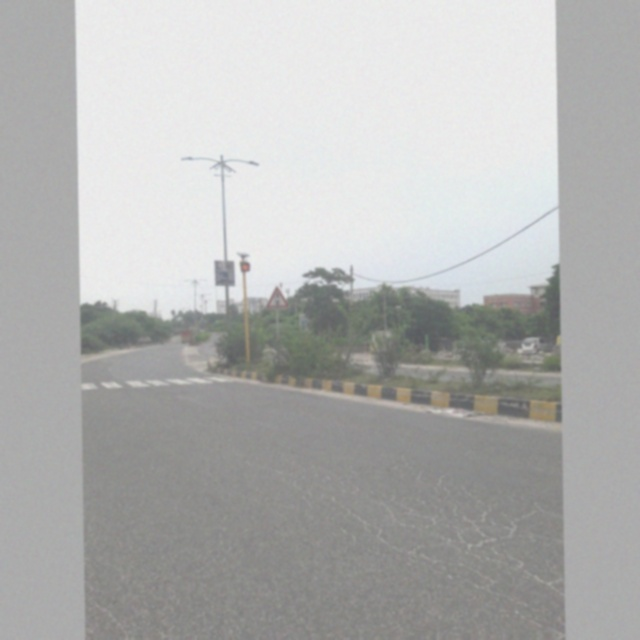Gap_in_Median: (262, 279, 293, 314)
